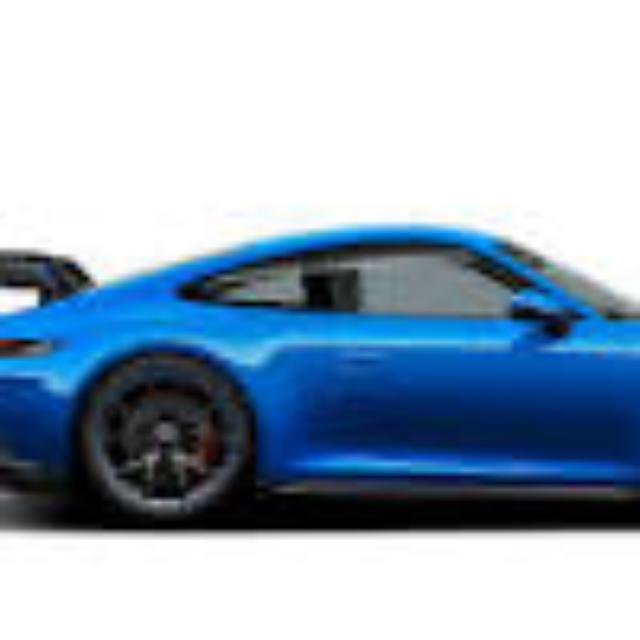porsche: (0, 224, 640, 530)
